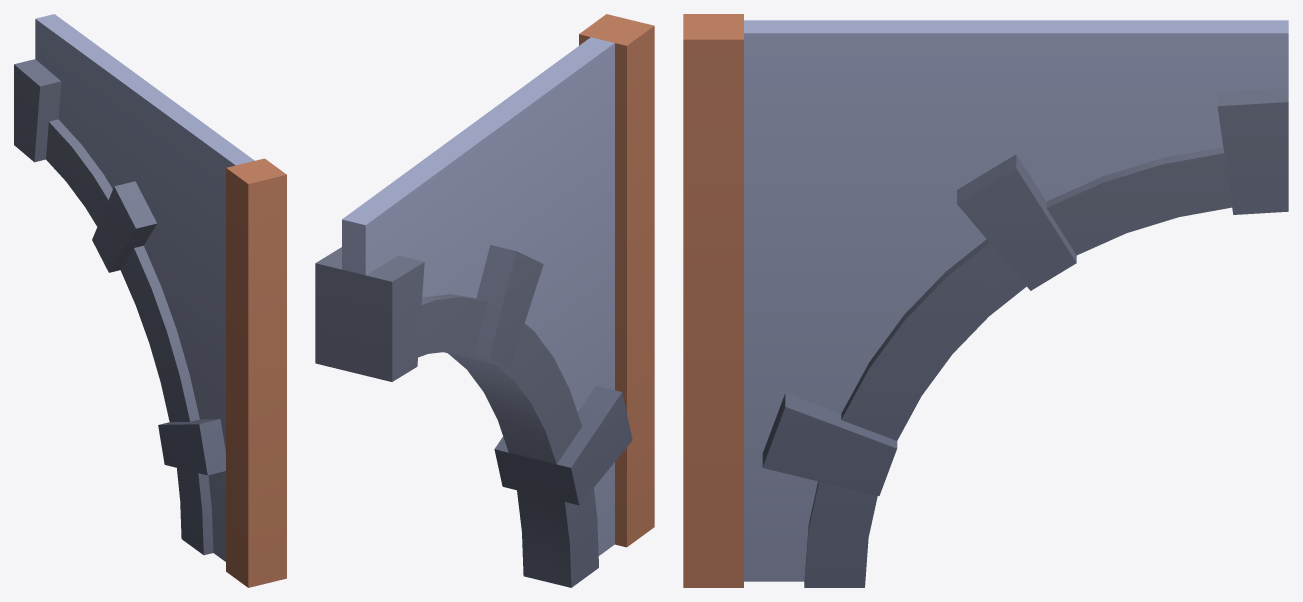
File: wall-arch-top-detail.glb
3 renders of one model, left to right at view 1: azimuth 30°, elevation 25°; view 2: azimuth 150°, elevation 25°; view 3: azimuth 270°, elevation 25°, orthographic. The views are drawn at different scales.
Parts seen in each view (by area): view 1: wall-arch-top-detail; view 2: wall-arch-top-detail; view 3: wall-arch-top-detail.
Boxes of the visible parts, x1,y1,x2,y2 form: wall-arch-top-detail: [14, 14, 286, 587]; wall-arch-top-detail: [315, 14, 654, 587]; wall-arch-top-detail: [683, 14, 1288, 587].
Bounding box in the file's own units: 0.16 × 1 × 1.
Materials: 1 (1 with a texture image).
